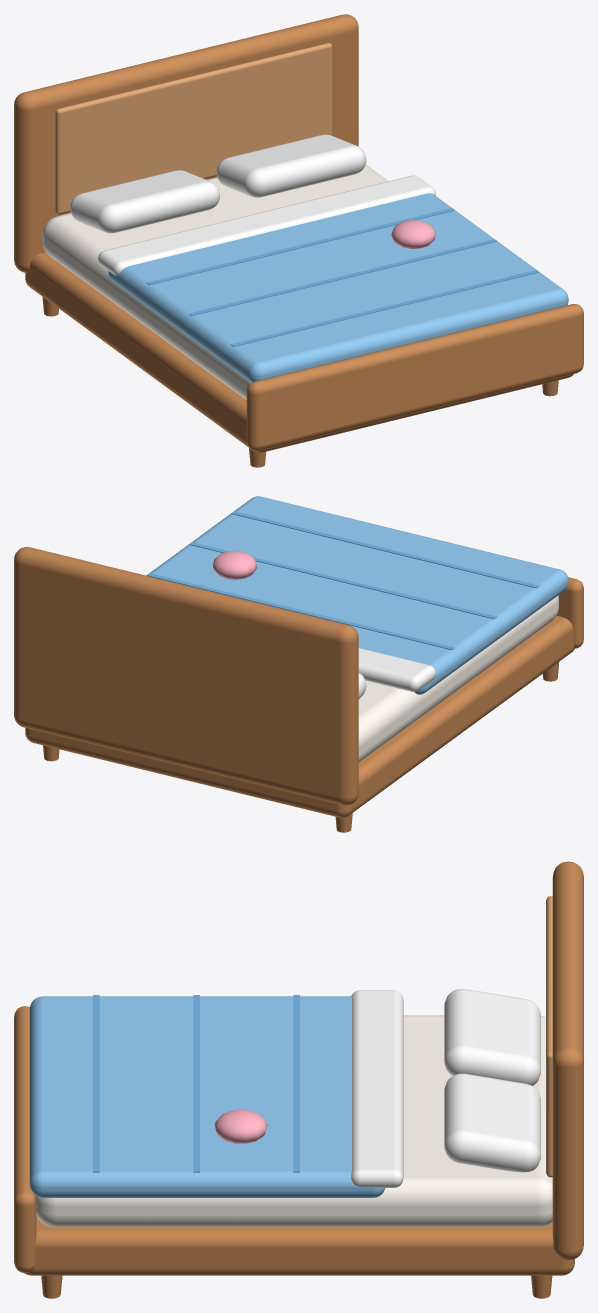
The model's file is bed.glb.
3 renders of one model, top to bottom at view 1: azimuth 30°, elevation 25°; view 2: azimuth 150°, elevation 25°; view 3: azimuth 270°, elevation 25°, orthographic. The views are drawn at different scales.
Bounding box in the file's own units: 2.1 × 1.26 × 2.56.
